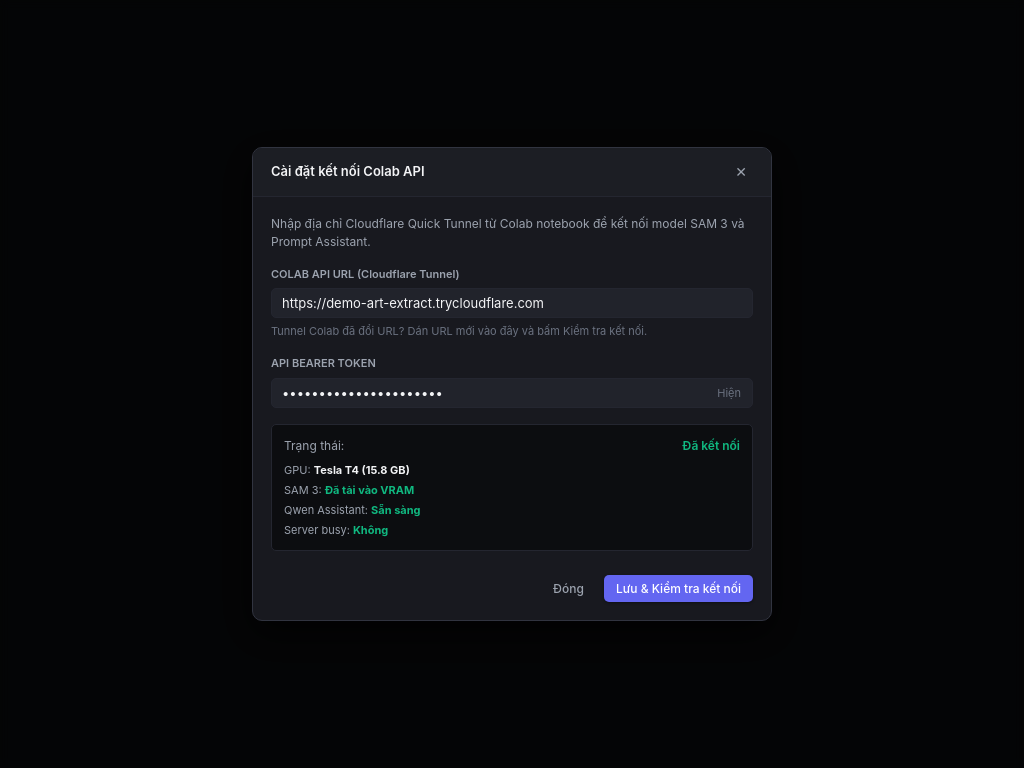
ConnectionModal › renders connection inputs and toggles token visibility
The width and height of the screenshot is (1024, 768).
Click the button titled "Hiện token": coordinates (729, 393) x1=713 y1=382 x2=745 y2=404
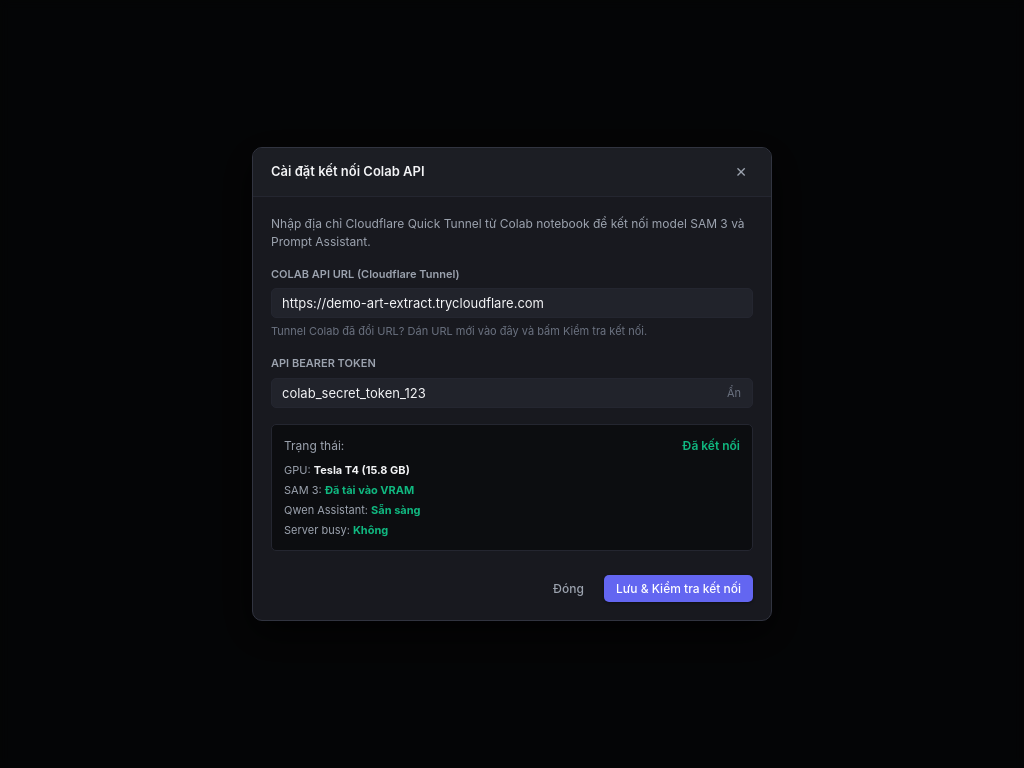
Check: the field with placeholder "Nhập secret token từ notebook" below "API BEARER TOKEN" shows its text, box x1=271 y1=378 x2=753 y2=408
